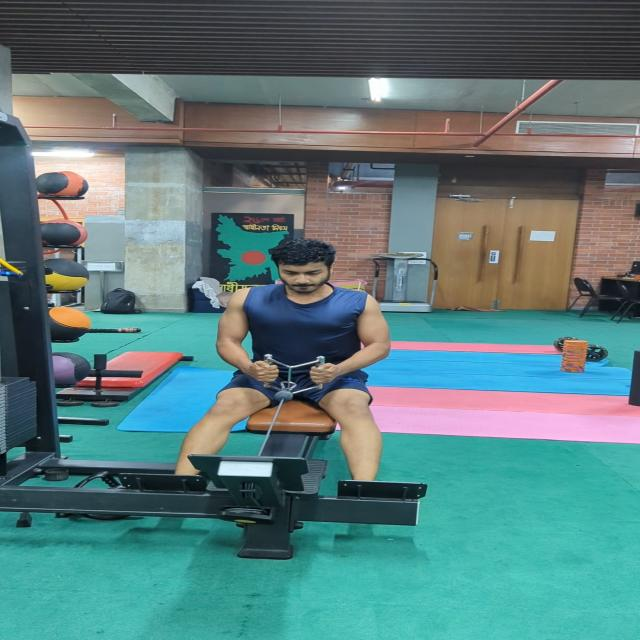Normal_RowingMachineExercise: (174, 236, 393, 489)
